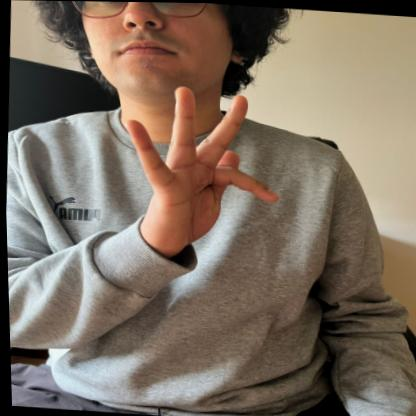F: (113, 78, 284, 261)
